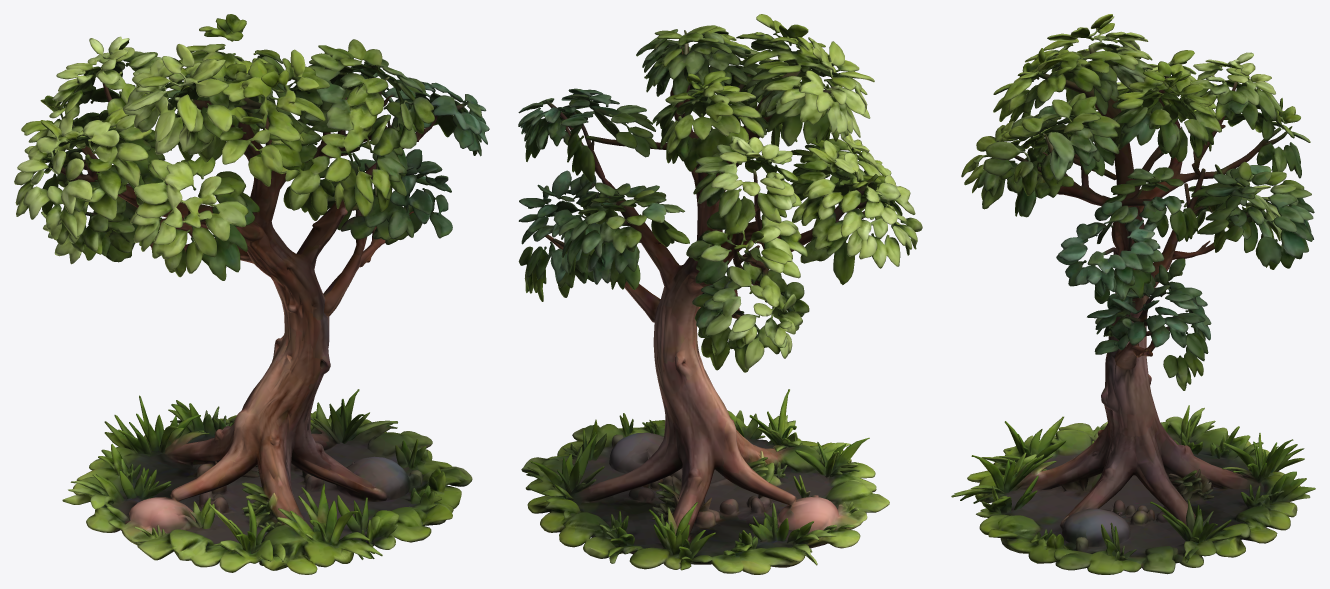
The model's file is tree-green.glb.
3 renders of one model, left to right at view 1: azimuth 30°, elevation 25°; view 2: azimuth 150°, elevation 25°; view 3: azimuth 270°, elevation 25°, orthographic. The views are drawn at different scales.
Visible parts, largest first — view 1: tripo_node_9e8f6db7-d7f6-4961-87f2-c5f29664a84f; view 2: tripo_node_9e8f6db7-d7f6-4961-87f2-c5f29664a84f; view 3: tripo_node_9e8f6db7-d7f6-4961-87f2-c5f29664a84f.
Part boxes in pixels (box(x1,y1,x2,y2)): tripo_node_9e8f6db7-d7f6-4961-87f2-c5f29664a84f: box(14, 14, 489, 574); tripo_node_9e8f6db7-d7f6-4961-87f2-c5f29664a84f: box(518, 14, 922, 574); tripo_node_9e8f6db7-d7f6-4961-87f2-c5f29664a84f: box(951, 14, 1315, 574).
Size of the model in its own units: 0.9031 by 0.9795 by 0.7251.
Materials: 1 (1 with a texture image).
